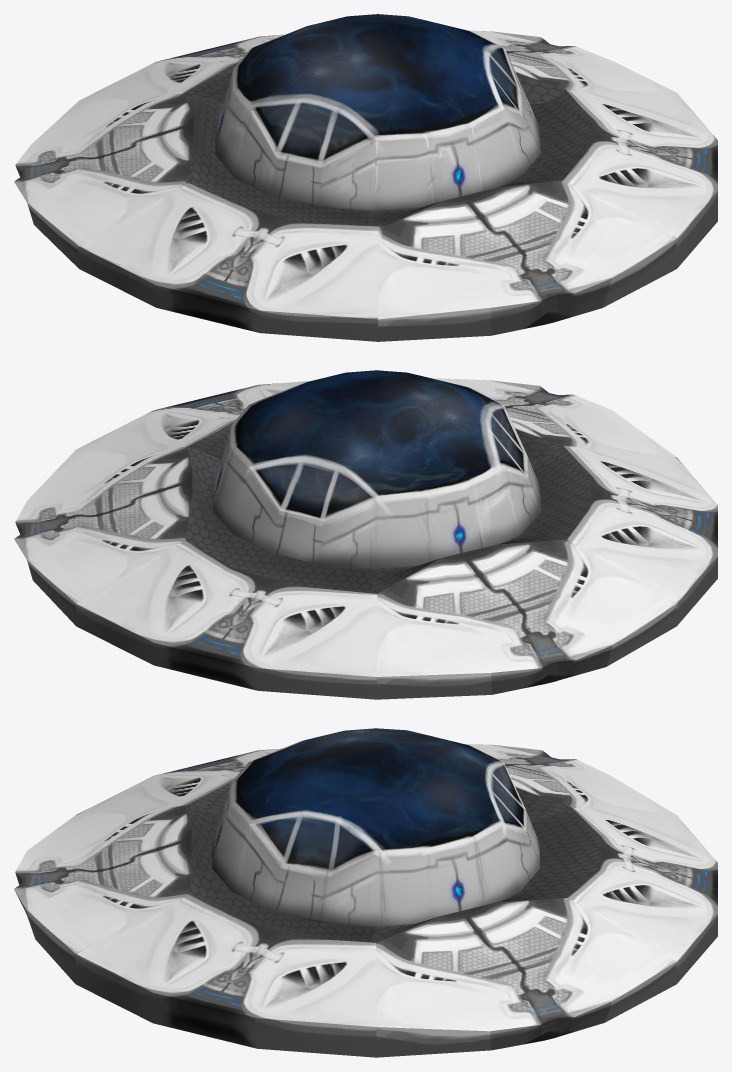
Rendered from UFO.FBX.
The picture shows the model from 3 angles, top to bottom: view 1: azimuth 30°, elevation 25°; view 2: azimuth 150°, elevation 25°; view 3: azimuth 270°, elevation 25°; orthographic projection.
Parts seen in each view (by area): view 1: Cylinder002; view 2: Cylinder002; view 3: Cylinder002.
Part boxes in pixels (x1=…): Cylinder002: x1=14, y1=14, x2=717, y2=341; Cylinder002: x1=14, y1=370, x2=717, y2=699; Cylinder002: x1=14, y1=728, x2=717, y2=1057.
Size of the model in its own units: 49.37 by 12.82 by 50.08.
